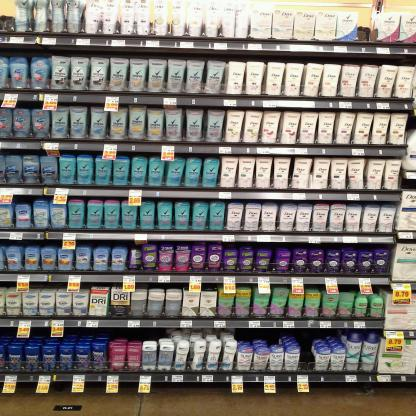Void: (302, 343, 310, 370)
